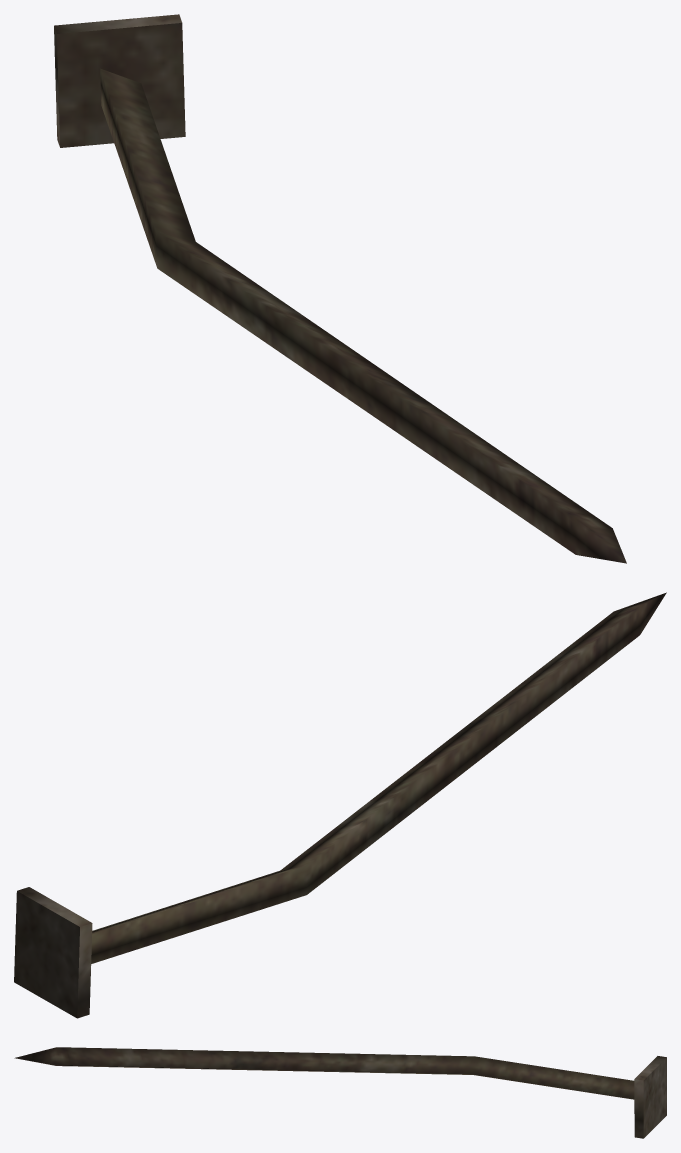
File: TI_Nail_02.fbx
3 views of the same model, one above another, from view 1: azimuth 30°, elevation 25°; view 2: azimuth 150°, elevation 25°; view 3: azimuth 270°, elevation 25° (orthographic). The views are drawn at different scales.
Visible parts, largest first — view 1: TI_Nail_02; view 2: TI_Nail_02; view 3: TI_Nail_02.
Part boxes in pixels (x1=…): TI_Nail_02: x1=54, y1=14, x2=626, y2=563; TI_Nail_02: x1=14, y1=592, x2=666, y2=1018; TI_Nail_02: x1=14, y1=1047, x2=666, y2=1138.
Size of the model in its own units: 0.0885 by 0.0512 by 0.511.
